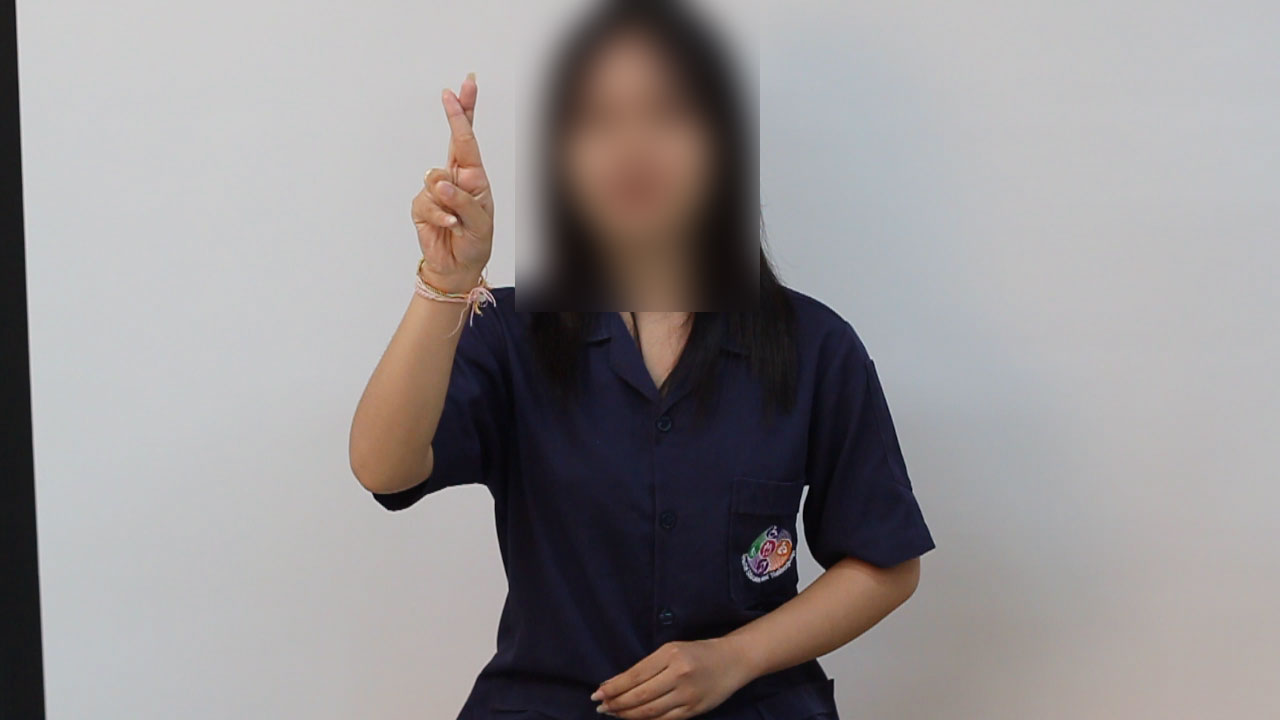rao: (389, 66, 516, 306)
